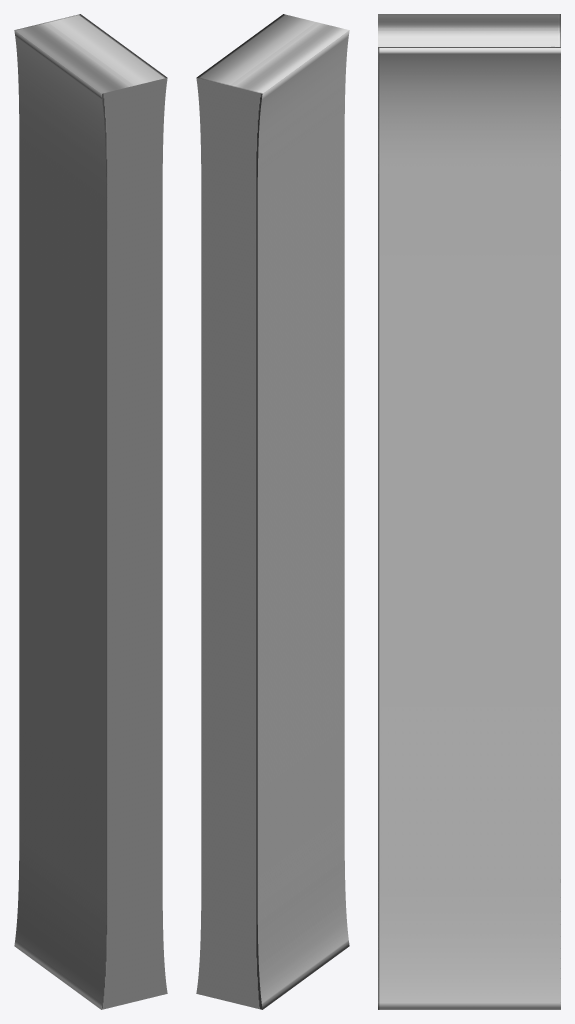
3 views of the same model, side by side, from view 1: azimuth 30°, elevation 25°; view 2: azimuth 150°, elevation 25°; view 3: azimuth 270°, elevation 25° (orthographic). The views are drawn at different scales.
Visible parts, largest first — view 1: Text; view 2: Text; view 3: Text.
Boxes of the visible parts, x1=… form: Text: x1=14, y1=14, x2=167, y2=1009; Text: x1=196, y1=14, x2=349, y2=1009; Text: x1=378, y1=14, x2=560, y2=1009.
Bounding box in the file's own units: 0.044 × 0.5809 × 0.1.
1 material, 1 textured.
